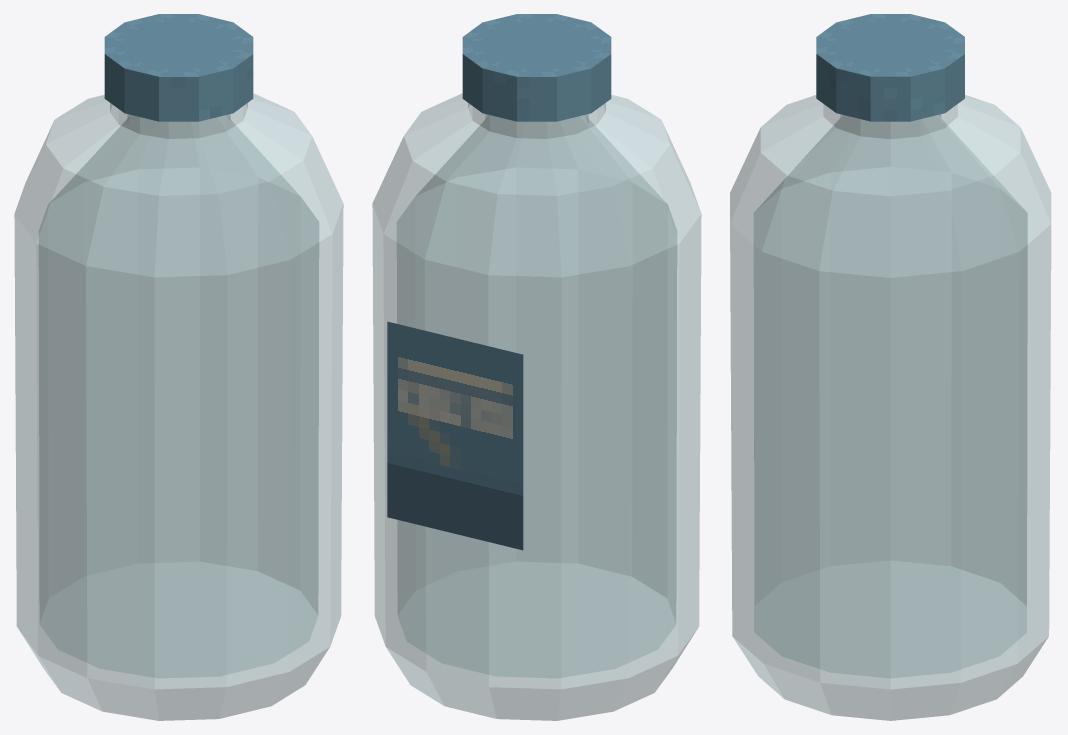
The model's file is water_mineral.glb.
3 renders of one model, left to right at view 1: azimuth 30°, elevation 25°; view 2: azimuth 150°, elevation 25°; view 3: azimuth 270°, elevation 25°, orthographic.
Visible parts, largest first — view 1: block_clear mineral-water bottle, block_blue cap; view 2: block_clear mineral-water bottle, block_mineral water label, block_blue cap; view 3: block_clear mineral-water bottle, block_blue cap.
Boxes of the visible parts, bbox=[...] form: block_clear mineral-water bottle: bbox=[14, 93, 343, 720]; block_blue cap: bbox=[104, 14, 253, 121]; block_clear mineral-water bottle: bbox=[372, 93, 701, 720]; block_mineral water label: bbox=[387, 321, 523, 550]; block_blue cap: bbox=[462, 14, 611, 121]; block_clear mineral-water bottle: bbox=[730, 95, 1051, 720]; block_blue cap: bbox=[816, 14, 964, 121].
Size of the model in its own units: 0.0792 by 0.1638 by 0.0778.
Materials: 2 (2 with a texture image).
